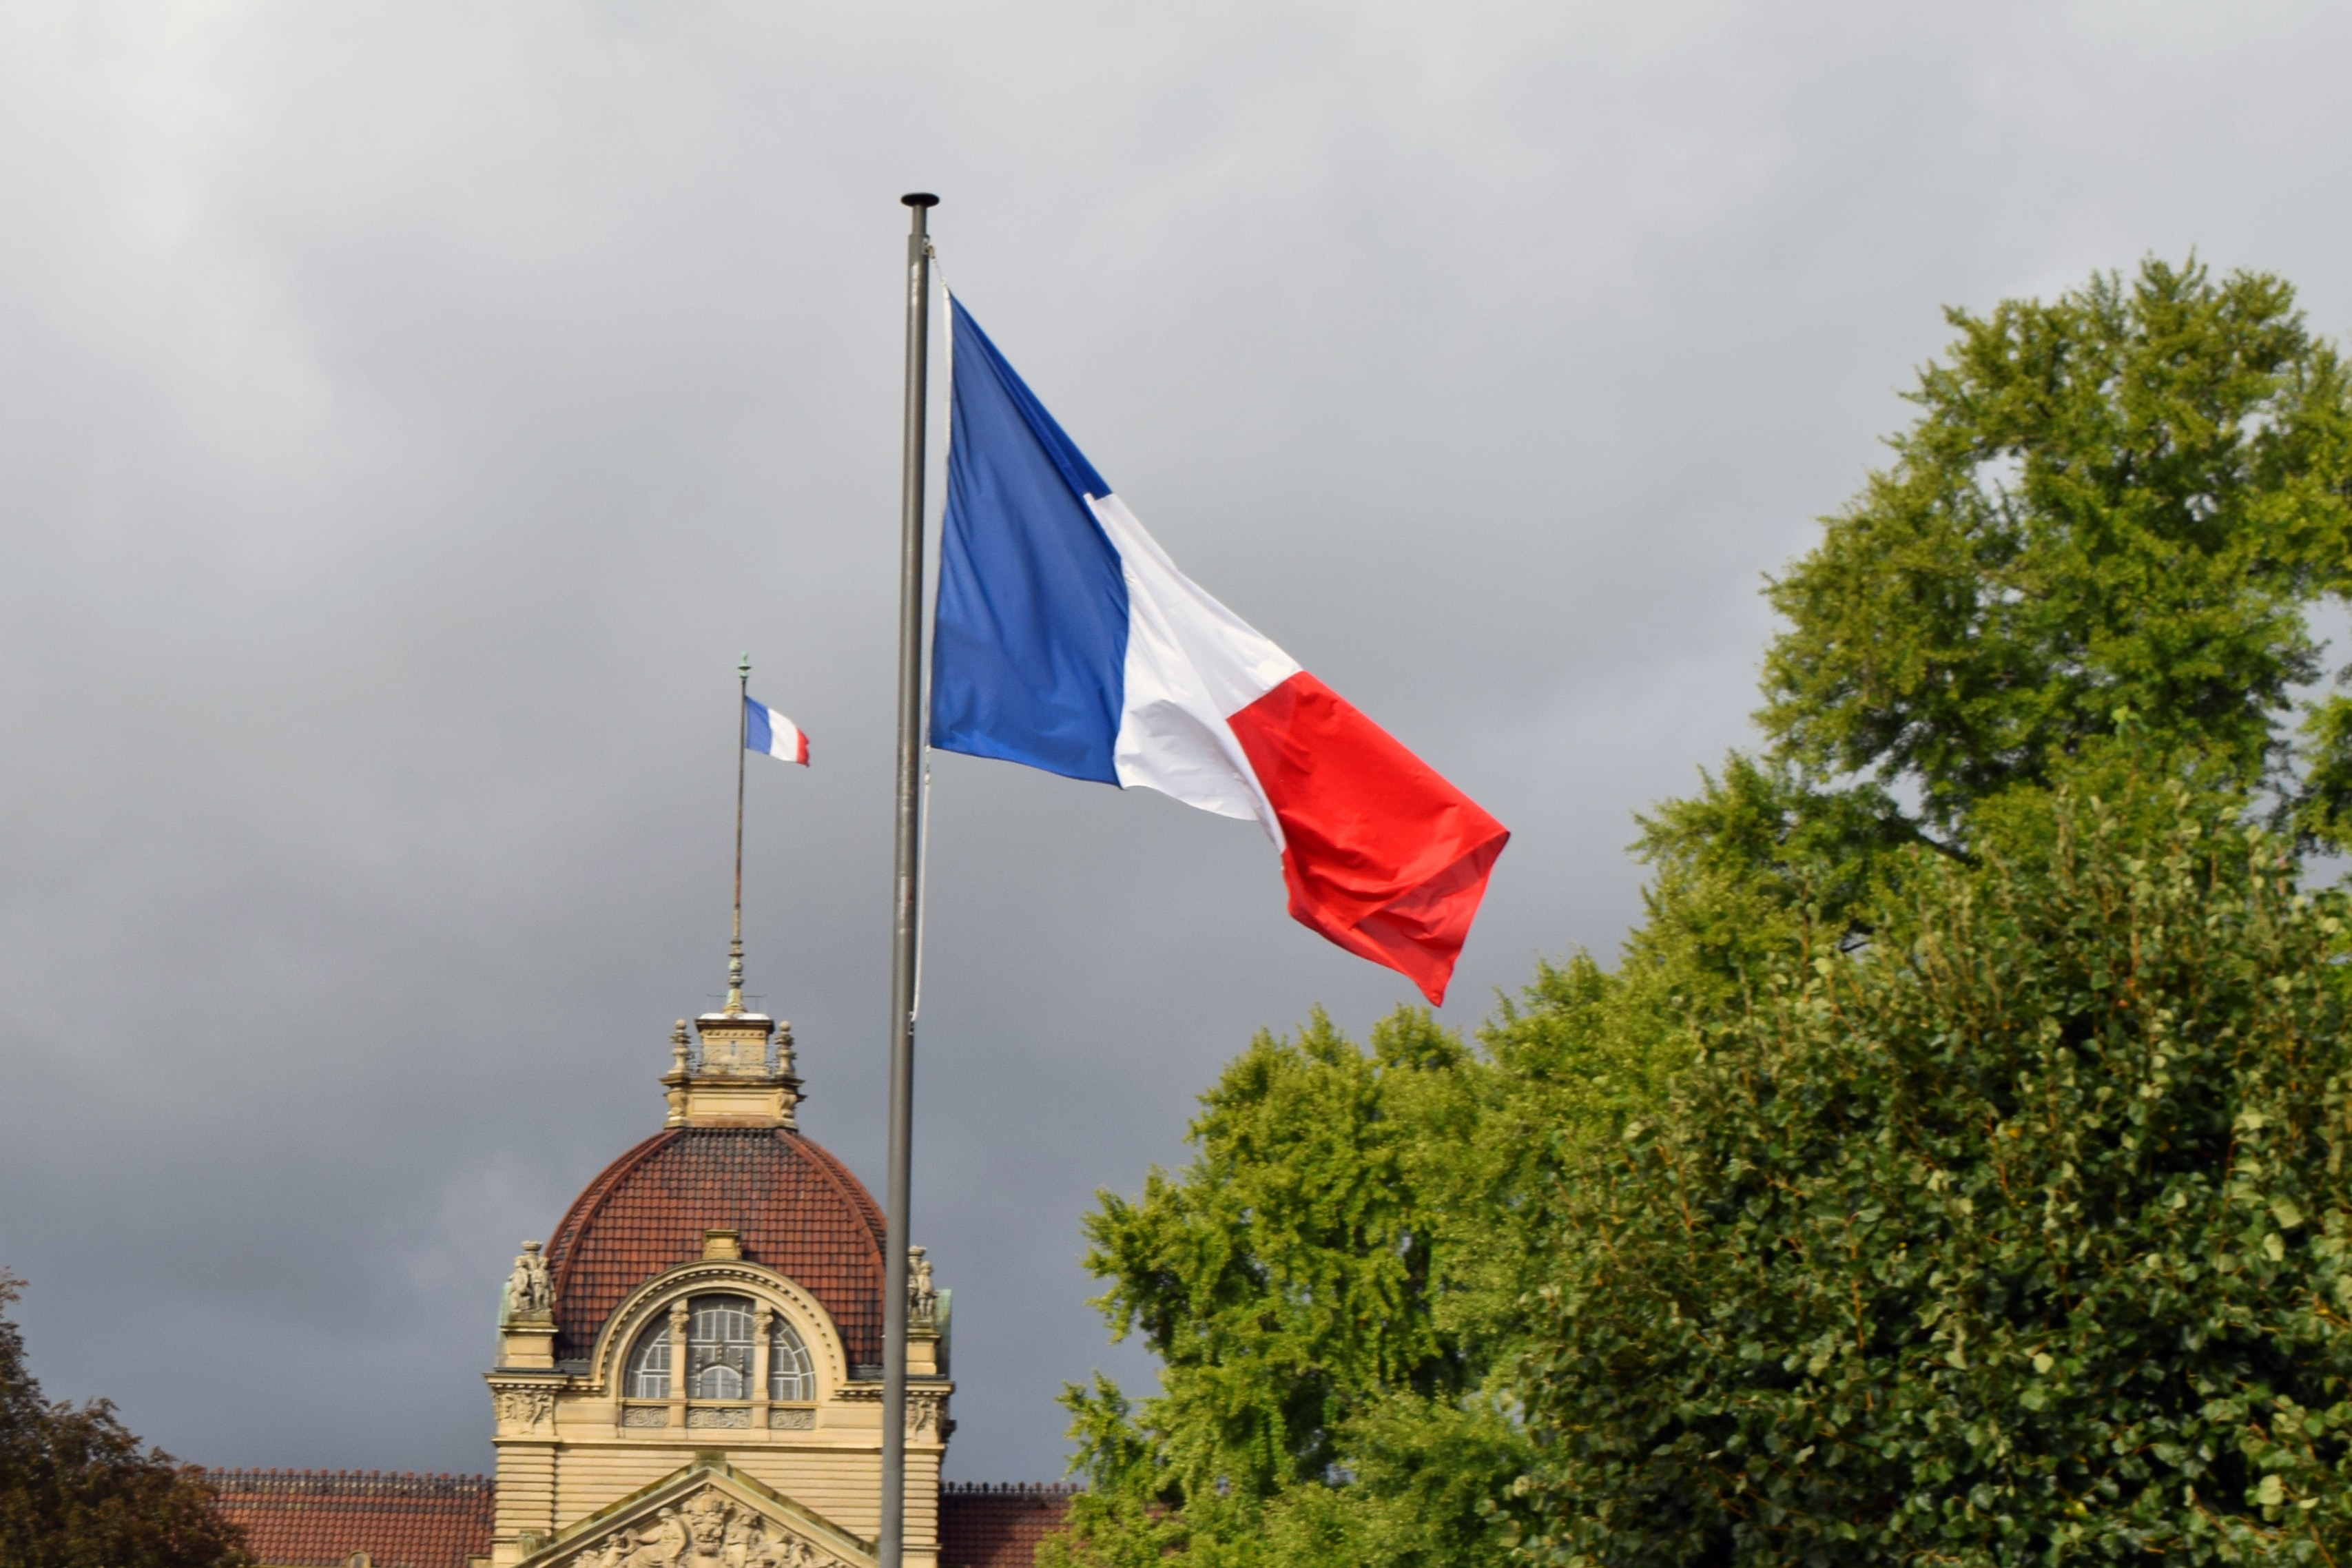Flag: (933, 289, 1509, 1012), (731, 690, 810, 772)
